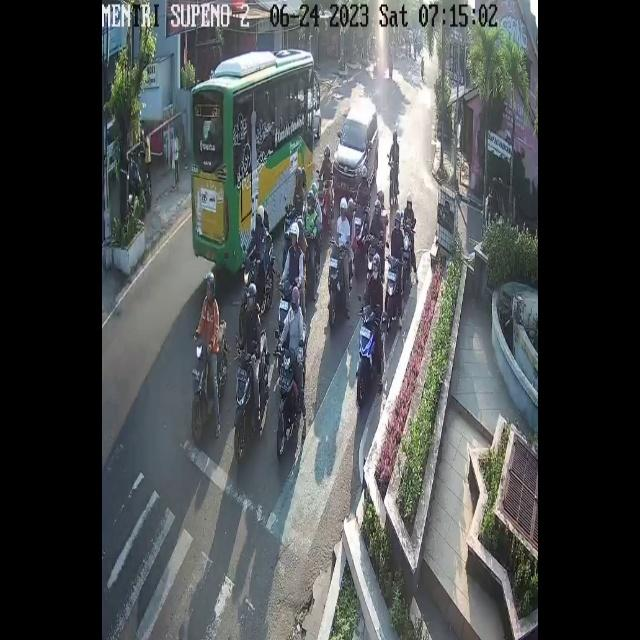bus: (234, 328, 270, 461), (191, 318, 229, 438), (276, 342, 303, 452), (242, 239, 274, 312), (356, 306, 376, 405), (328, 238, 347, 327), (386, 256, 400, 327), (278, 278, 294, 330), (402, 226, 413, 288), (387, 161, 399, 203), (283, 203, 296, 241), (356, 203, 365, 256), (367, 234, 380, 270), (318, 178, 325, 206), (420, 63, 425, 81)
car: (192, 49, 314, 273)
motorcycle: (334, 104, 380, 194)
